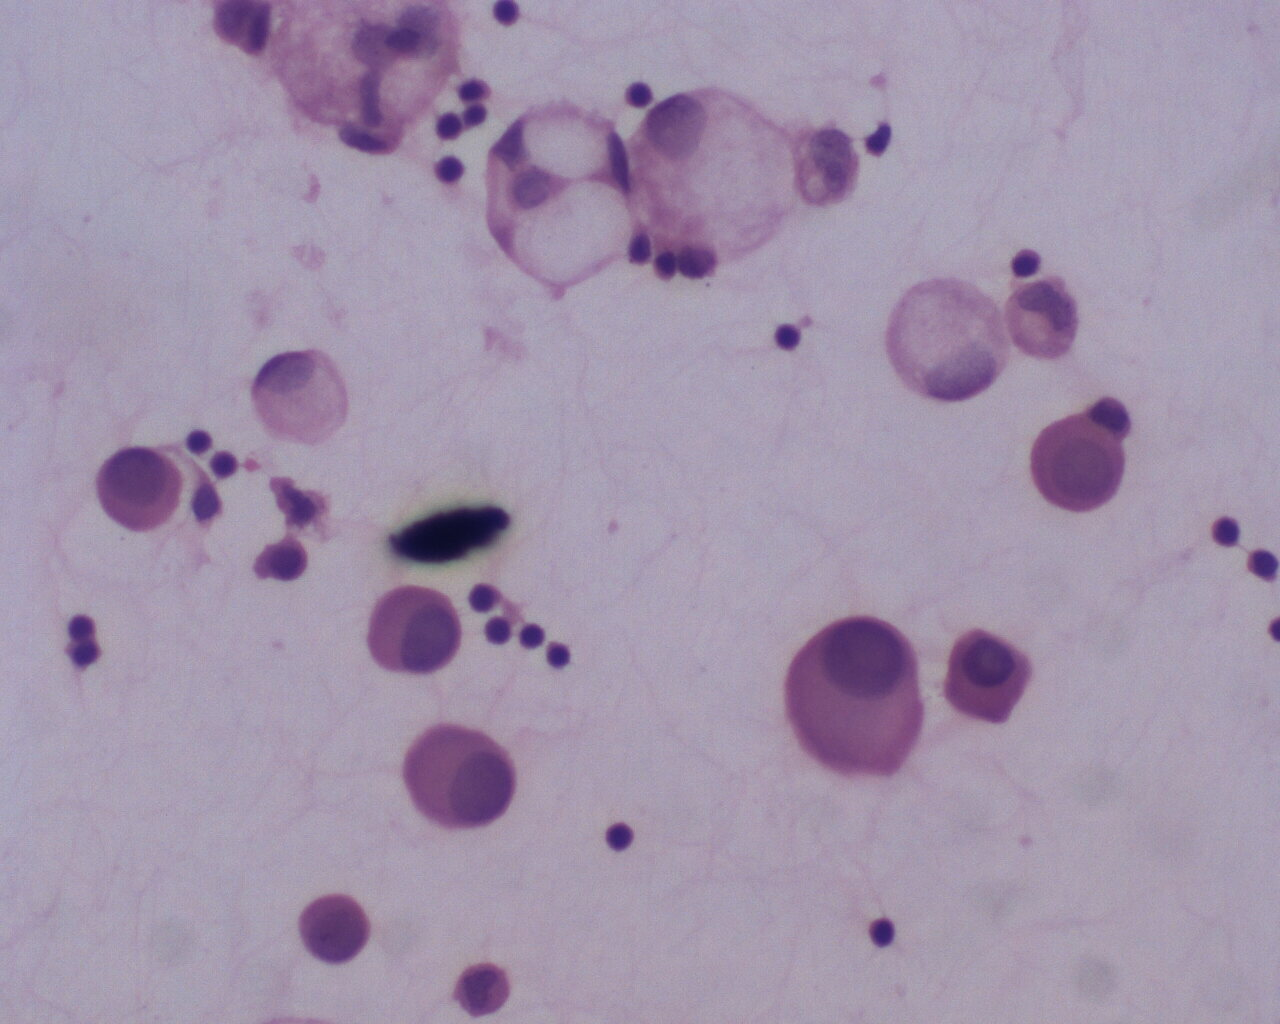ab: (771, 615, 931, 779), (396, 720, 523, 841), (1026, 412, 1128, 517), (942, 622, 1035, 731), (360, 582, 461, 672), (95, 443, 190, 536), (293, 889, 380, 974)
histo: (620, 92, 794, 260), (878, 271, 1009, 405), (251, 347, 354, 450)
lymph: (1198, 507, 1252, 557), (765, 315, 805, 359), (597, 811, 638, 853), (861, 911, 900, 954), (467, 577, 505, 616), (543, 634, 580, 675)
